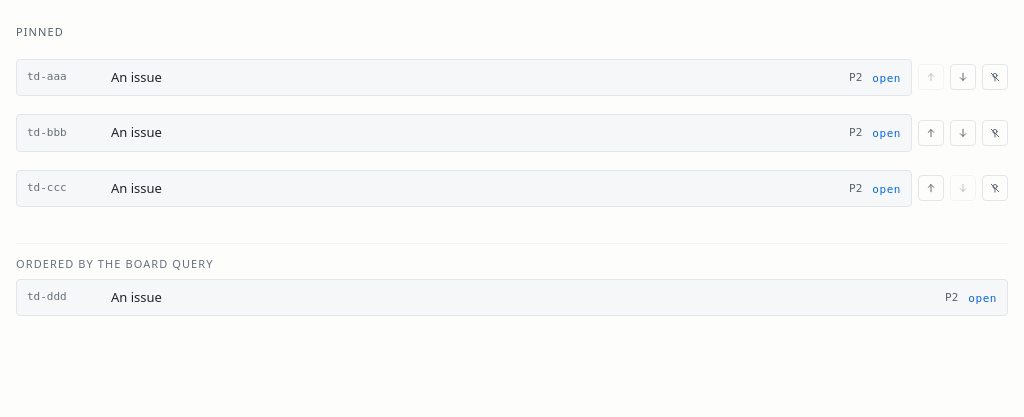
Test case: BacklogView › shows td's message when a position is rejected
Click the button named "Move td-aaa down".
click(963, 77)  # box [950,64,976,90]
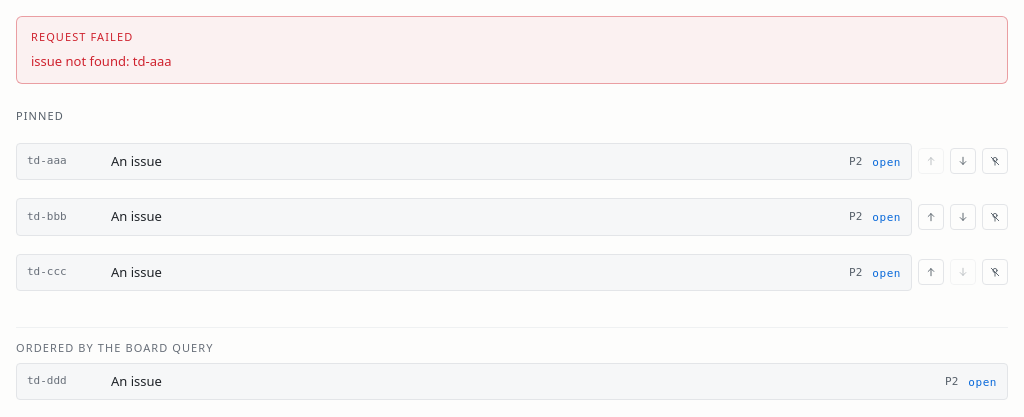
Expected: the message shows "issue not found: td-aaa", [31,52,172,70]
